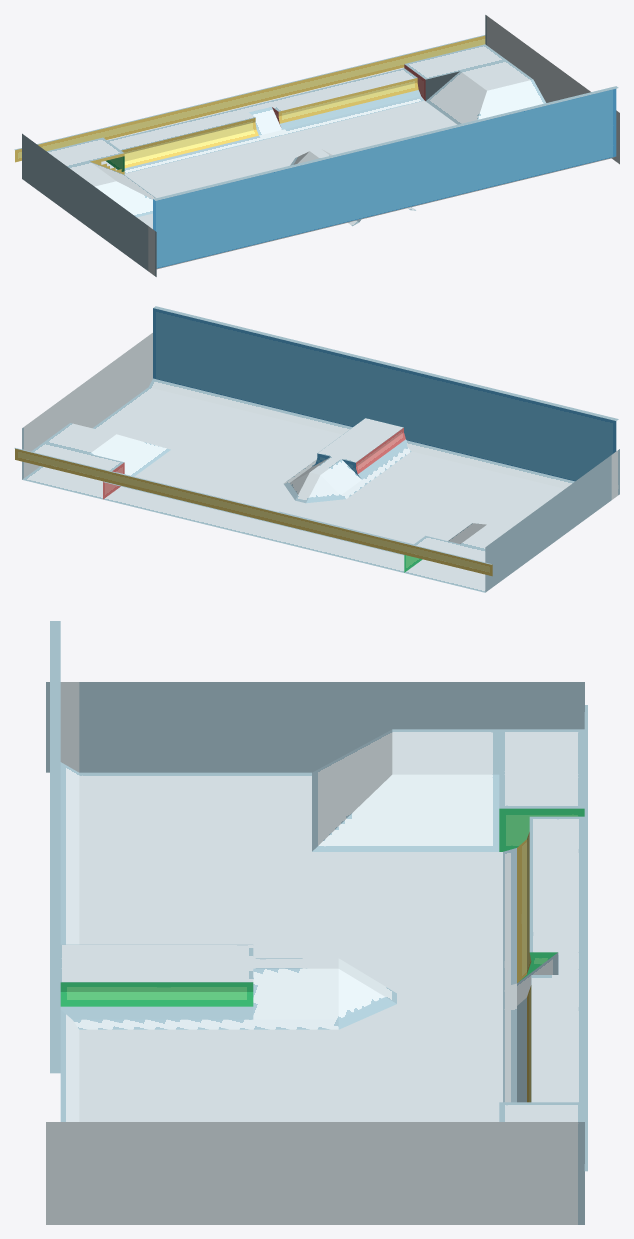
File: TestMap.gltf
3 renders of one model, top to bottom at view 1: azimuth 30°, elevation 25°; view 2: azimuth 150°, elevation 25°; view 3: azimuth 270°, elevation 25°, orthographic. The views are drawn at different scales.
Parts seen in each view (by area): view 1: mesh; view 2: mesh; view 3: mesh.
Part boxes in pixels (left/top/right/bottom): mesh: left=14, top=15, right=619, bottom=276; mesh: left=14, top=306, right=619, bottom=592; mesh: left=46, top=621, right=587, bottom=1224.
Size of the model in its own units: 165 by 25.07 by 81.1.
Materials: 1 (1 with a texture image).
